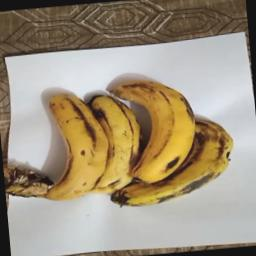Banana Unripe: (33, 72, 237, 208)
